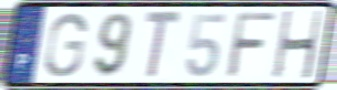5: (184, 12, 227, 79)
9: (90, 10, 133, 79)
F: (224, 10, 278, 80)
G: (42, 11, 89, 79)
H: (271, 9, 324, 82)
T: (143, 8, 185, 82)
